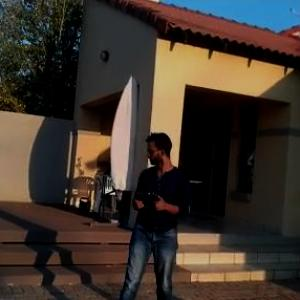follow: (112, 127, 197, 299)
